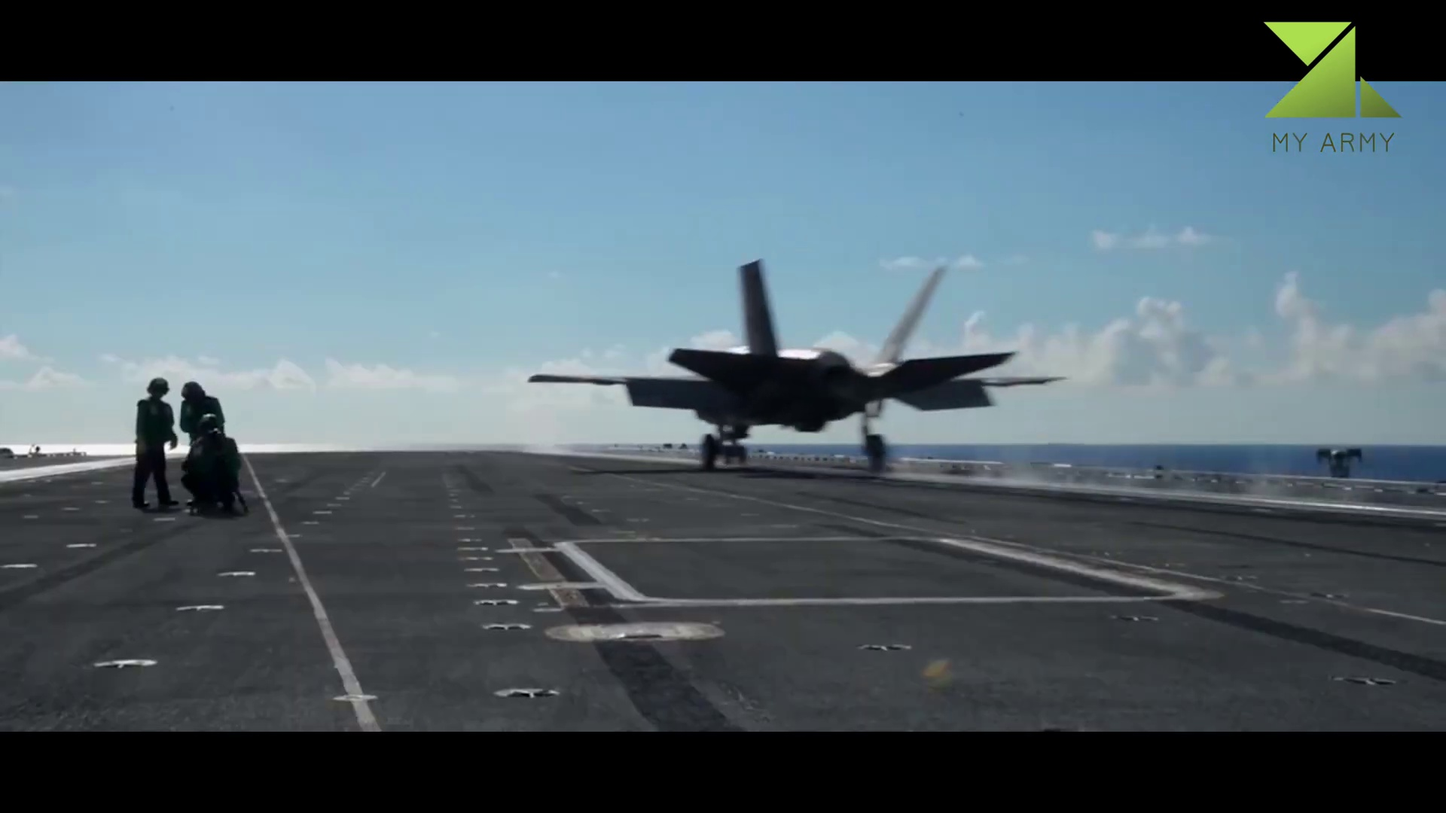F35: (526, 258, 1070, 475)
